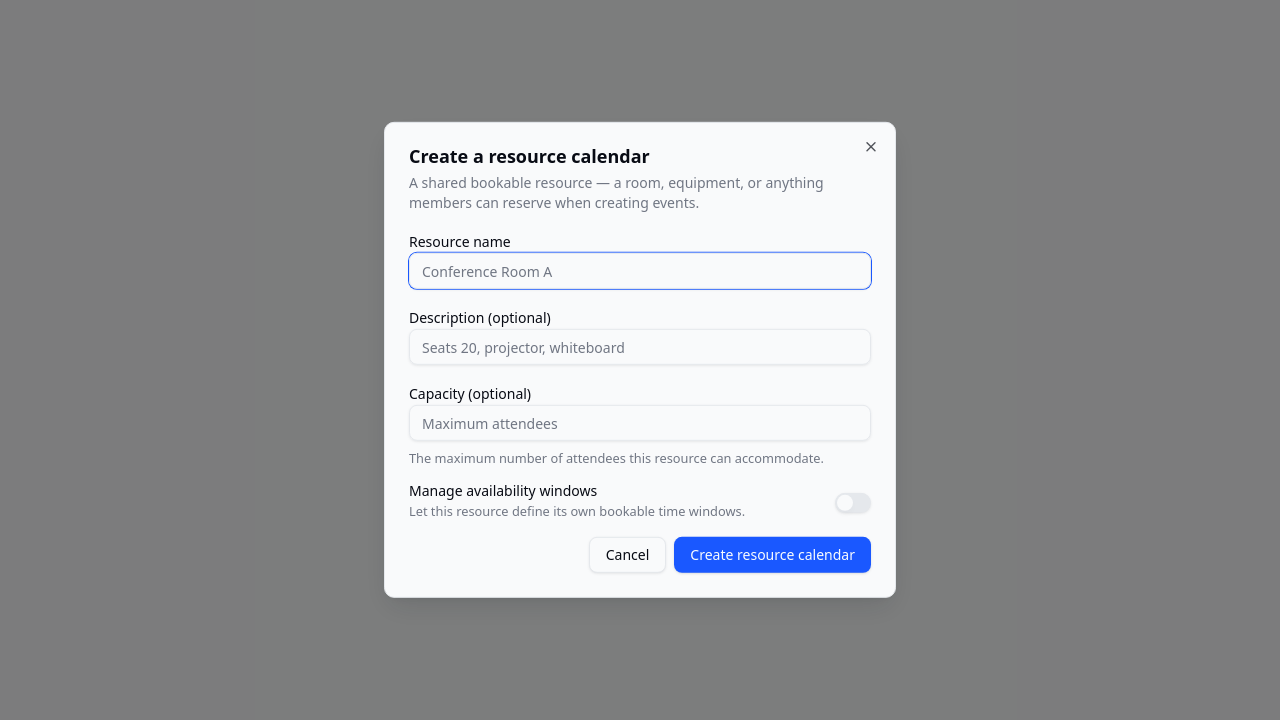
CreateResourceCalendarDialog › zod validation › does not submit with an empty name
The width and height of the screenshot is (1280, 720).
Click the button "Create resource calendar" at (773, 555), box top-left (674, 537), bottom-right (871, 573)
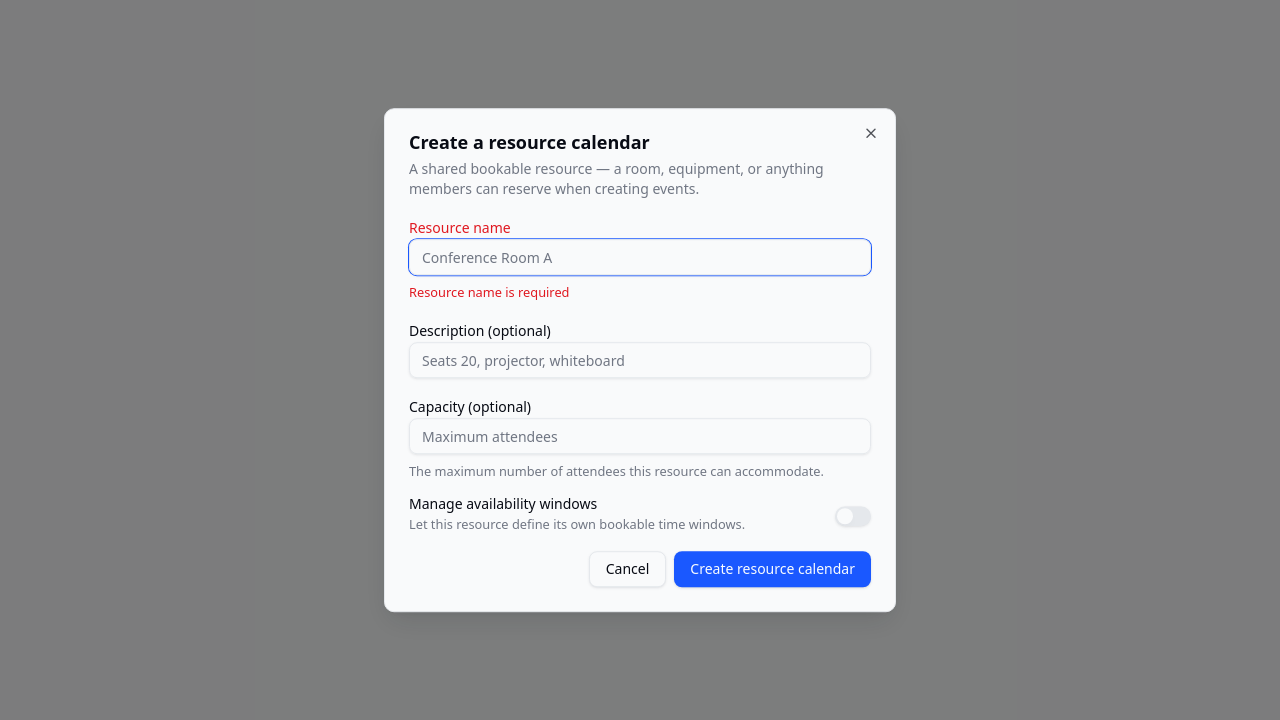
Expected: the text "Resource name is required" is shown, top-left (409, 283), bottom-right (570, 301)
